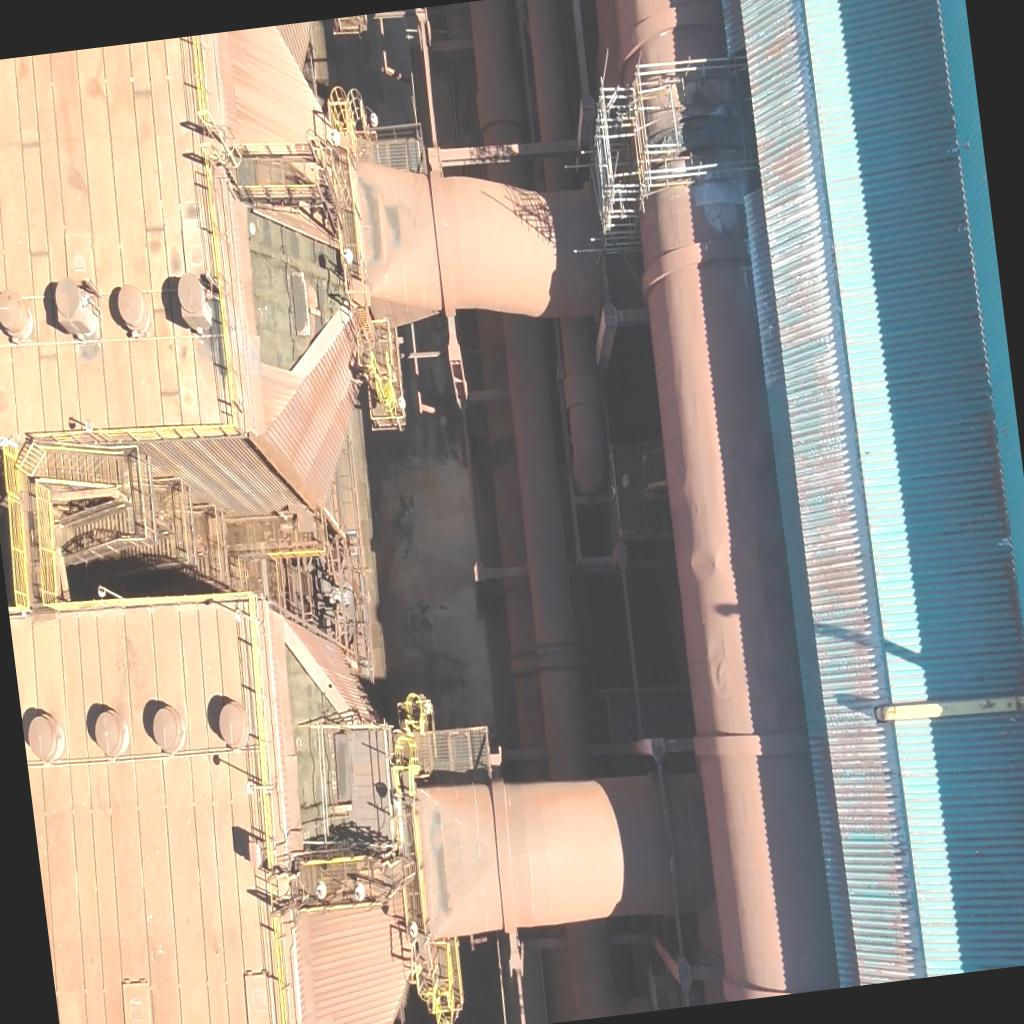Failures: (234, 192, 348, 374), (282, 640, 376, 843)
